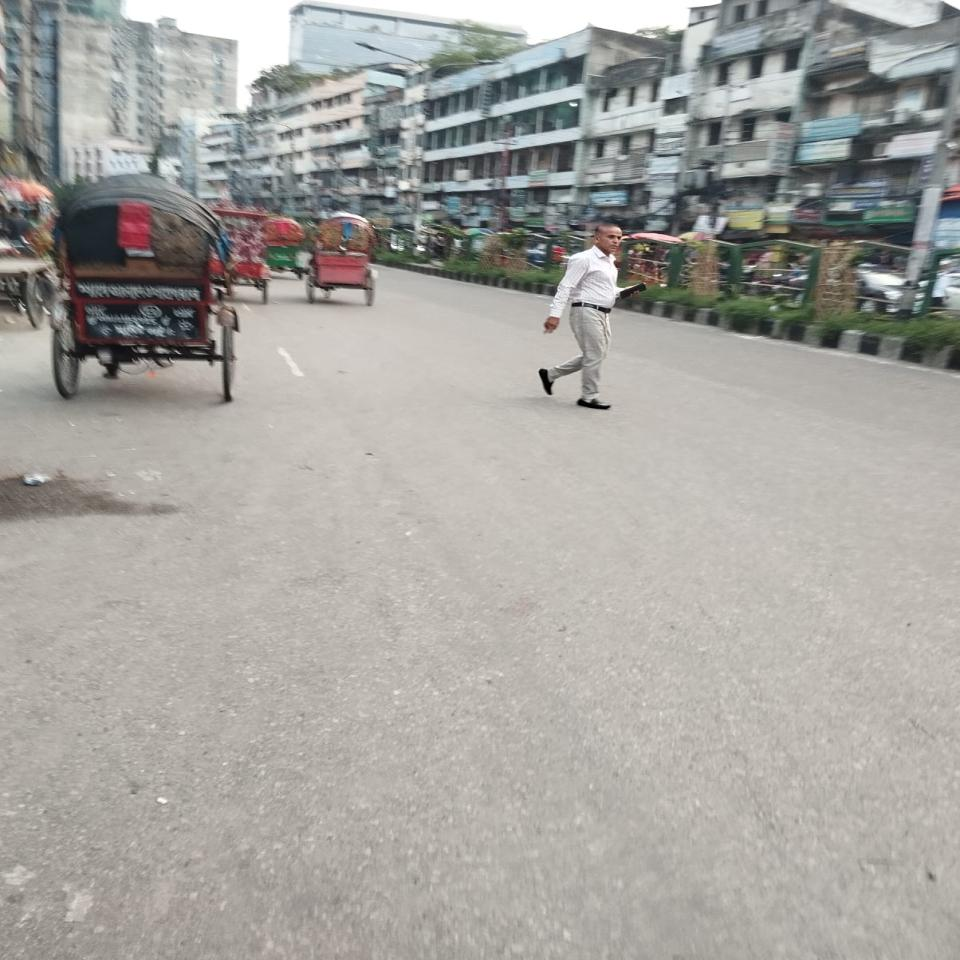person: (538, 222, 646, 411)
